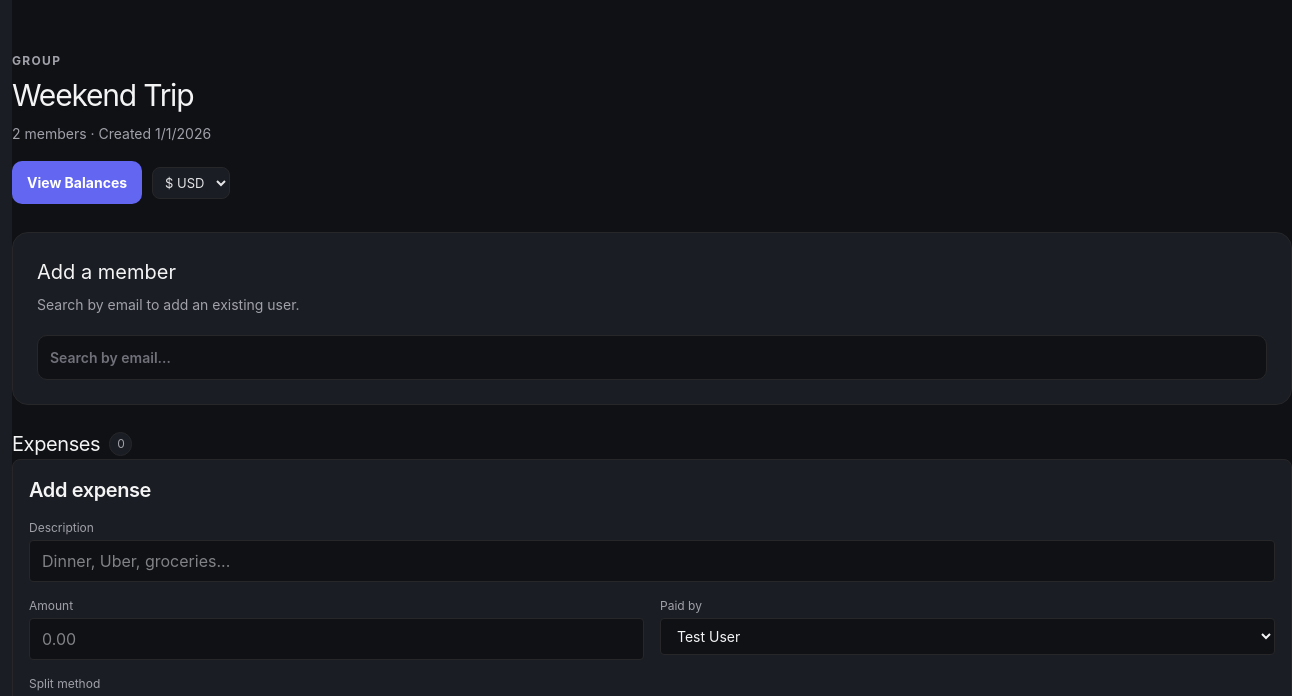
GroupDetail member search › shows a clear no-results message instead of hanging for a nonexistent email
The width and height of the screenshot is (1292, 696).
Type "nobody@nowhere.com" into the field with placeholder "Search by email…".
click(652, 357); type("nobody@nowhere.com")  # box [37,335,1267,380]
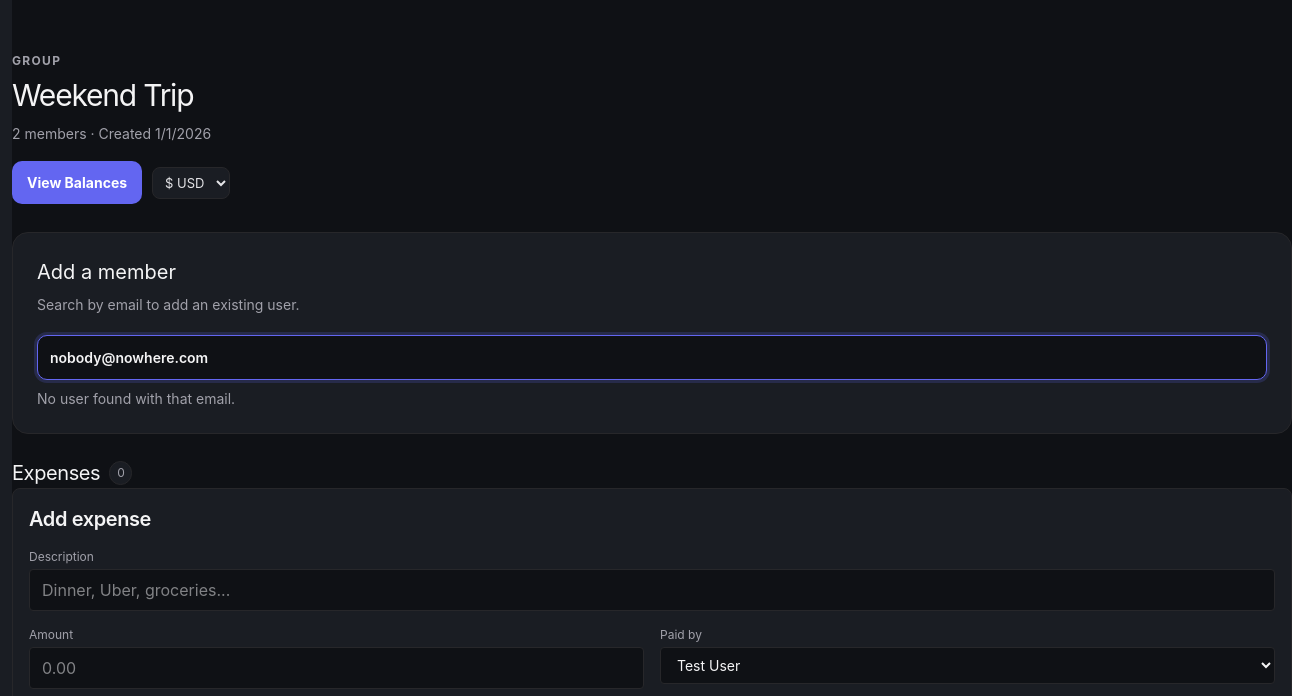
Result: the text "No user found with that email." is shown at [37,390,235,407]
